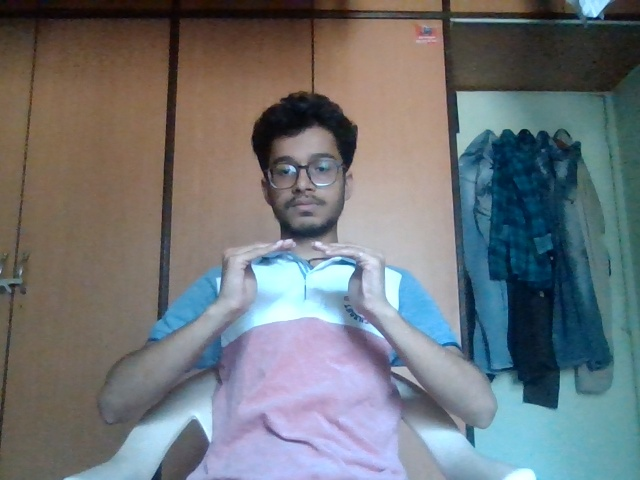afternoon: (215, 232, 414, 344)
